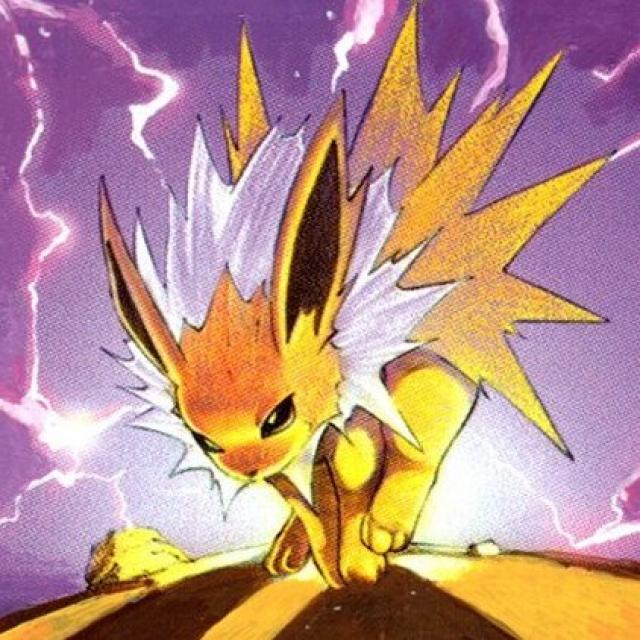Jolteon: (110, 90, 512, 587)
